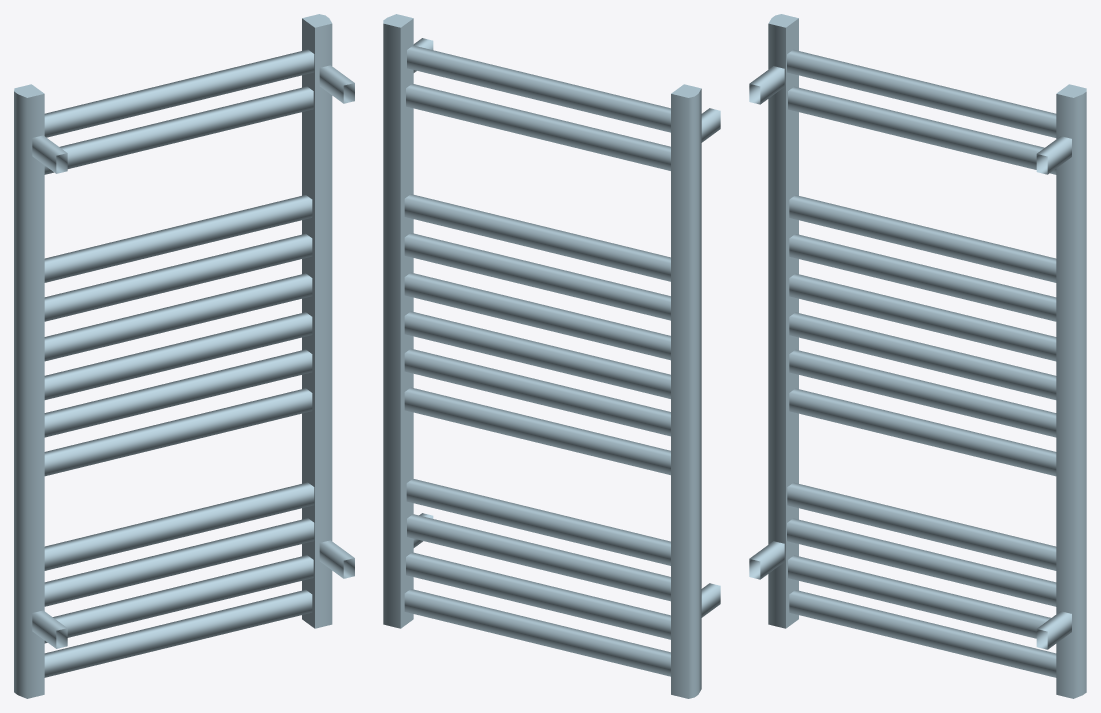
File: Prop_heater_bathroom.FBX
The picture shows the model from 3 angles, left to right: view 1: azimuth 30°, elevation 25°; view 2: azimuth 150°, elevation 25°; view 3: azimuth 330°, elevation 25°; orthographic projection.
Parts seen in each view (by area): view 1: Box164; view 2: Box164; view 3: Box164.
Part boxes in pixels (box(x1,y1,x2,y2)): Box164: box(14, 14, 354, 698); Box164: box(383, 14, 720, 698); Box164: box(749, 14, 1086, 698).
Bounding box in the file's own units: 31.04 × 6.43 × 57.25.
